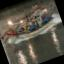fishing boat: (0, 0, 59, 47)
